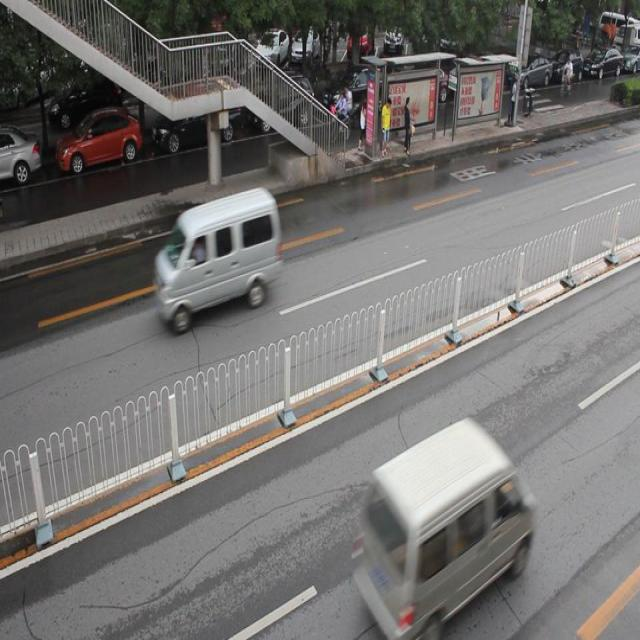car: (58, 108, 142, 173), (154, 100, 242, 150), (245, 80, 317, 135), (323, 67, 394, 121), (0, 127, 44, 187)
truck: (354, 413, 536, 640), (152, 184, 282, 330)
